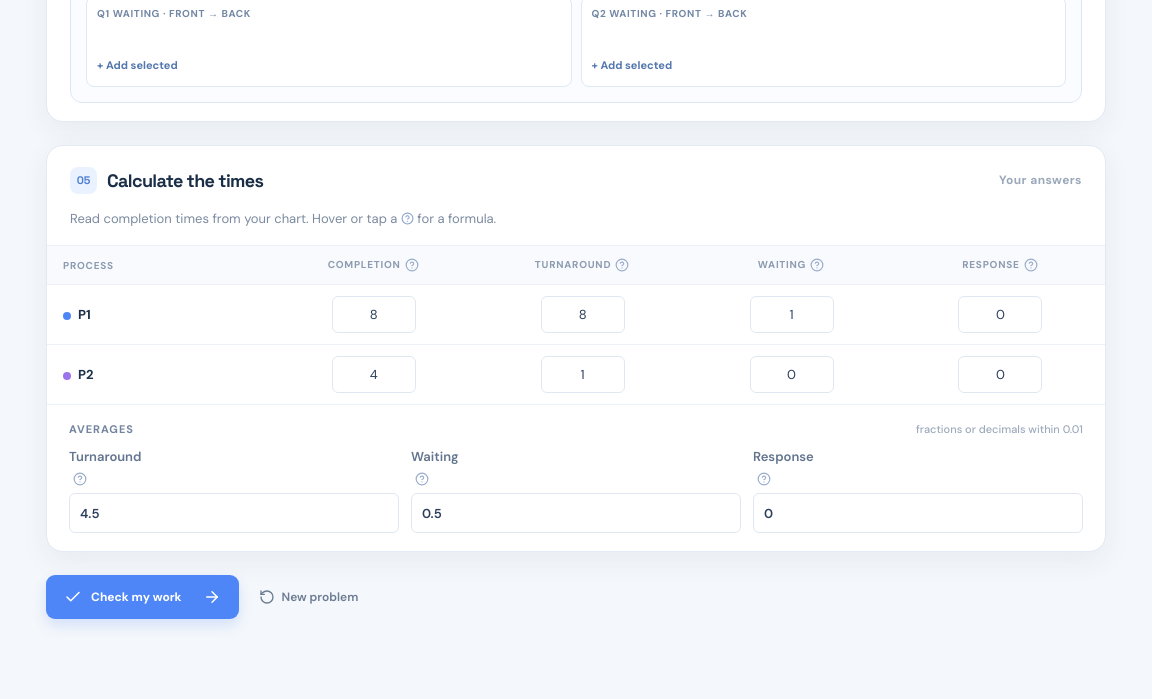
MLFQ exercise › checks a complete event table, Gantt chart, and metrics together
The width and height of the screenshot is (1152, 699).
(page scrolled)
Click the button "Check my work" at {"x": 142, "y": 597}, box [46,575,239,619]
(page scrolled)
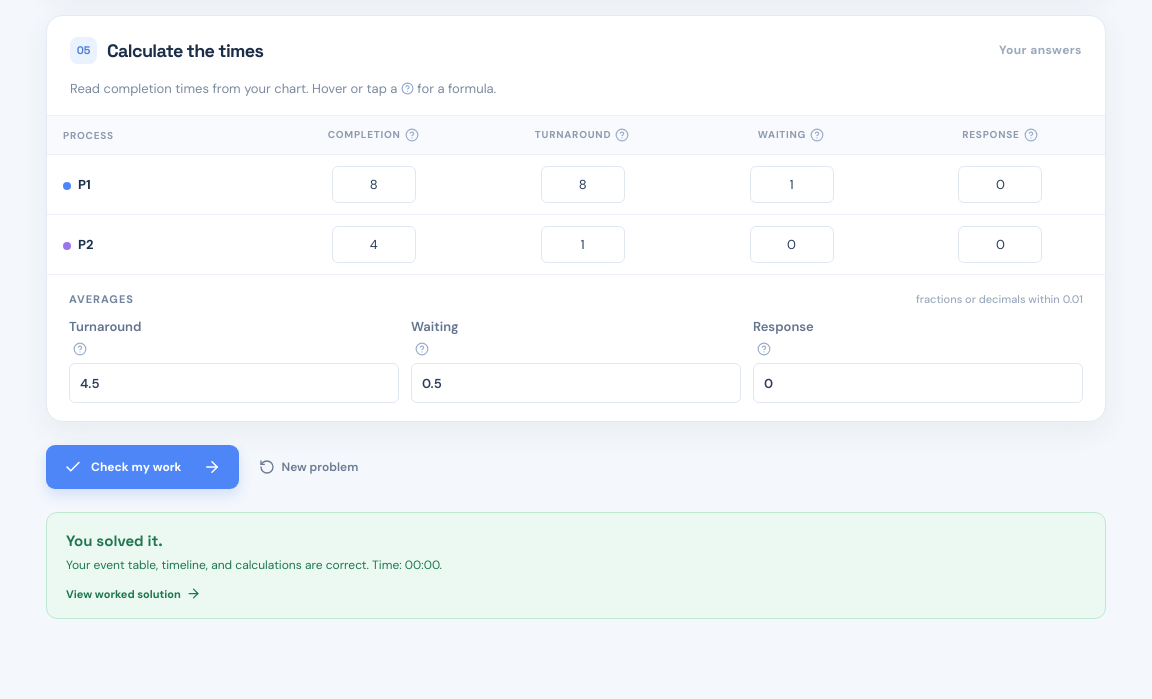
Check: the text "You solved it." is shown, box [66,531,163,550]
Click the button "View worked solution" at {"x": 133, "y": 594}, box [66,586,201,601]
(page scrolled)
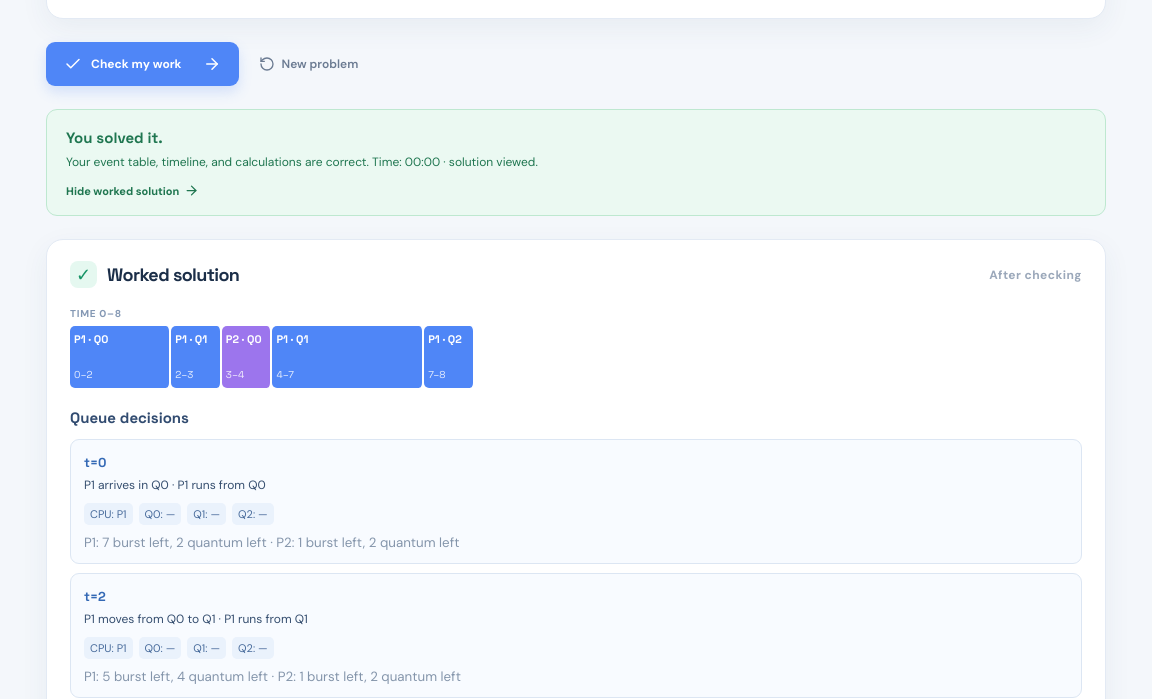
Check: the heading "Queue decisions" is shown, box [70,408,189,427]
Check: the text "P1 · Q2" is shown, box [428,332,462,346]
